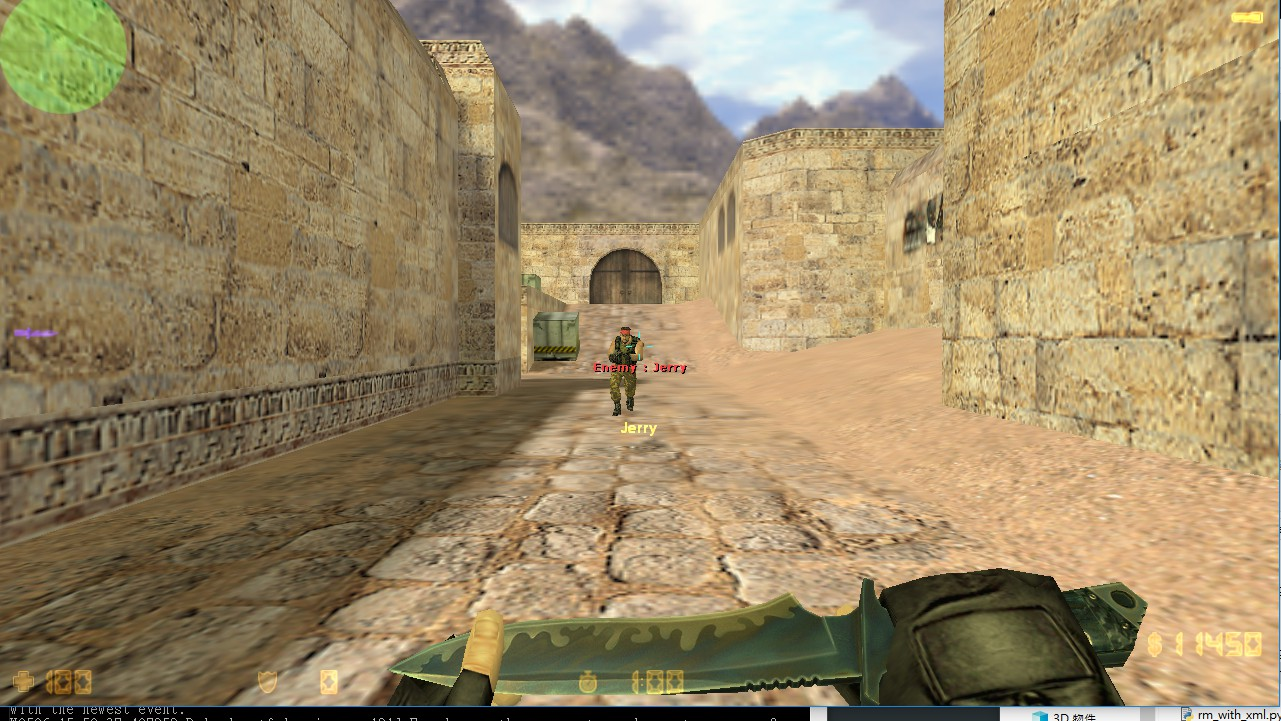person: (608, 324, 646, 419)
